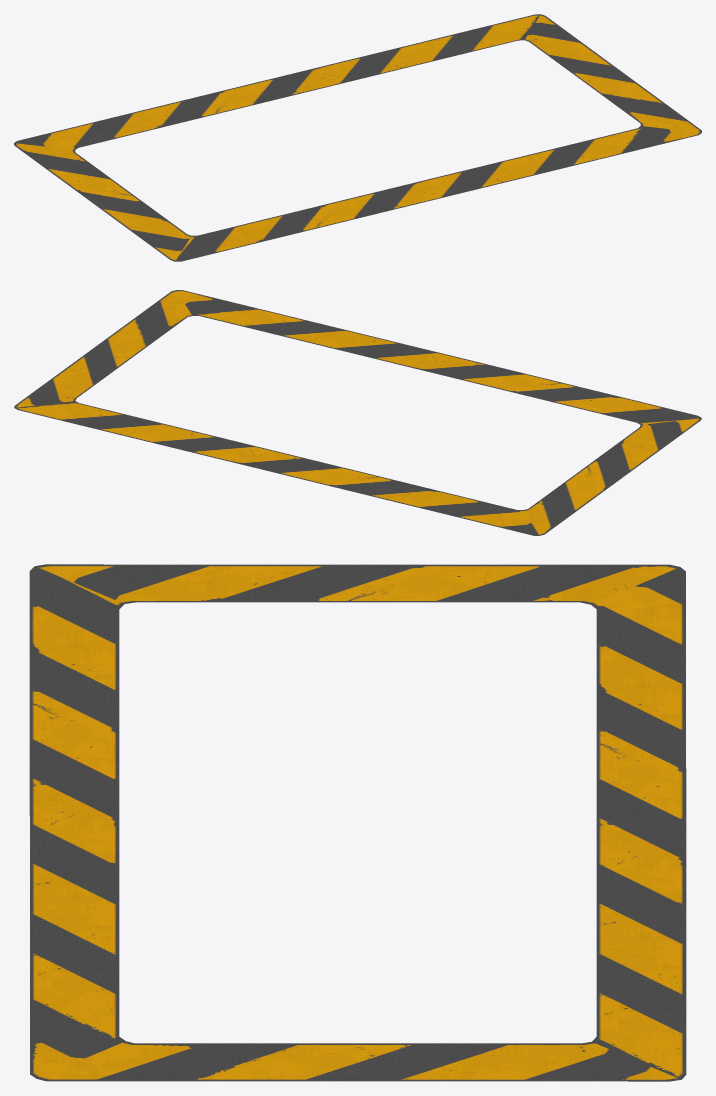
File: SM_FloorDecal_RecWarn1X2.FBX
The picture shows the model from 3 angles, top to bottom: view 1: azimuth 30°, elevation 25°; view 2: azimuth 150°, elevation 25°; view 3: azimuth 270°, elevation 25°; orthographic projection. The views are drawn at different scales.
Parts seen in each view (by area): view 1: SM_FloorDecal_RecWarn1X2; view 2: SM_FloorDecal_RecWarn1X2; view 3: SM_FloorDecal_RecWarn1X2.
Part boxes in pixels (left/top/right/bottom): SM_FloorDecal_RecWarn1X2: left=14, top=14, right=701, bottom=261; SM_FloorDecal_RecWarn1X2: left=14, top=290, right=701, bottom=535; SM_FloorDecal_RecWarn1X2: left=29, top=564, right=686, bottom=1081.
Size of the model in its own units: 216 by 116 by 0.
